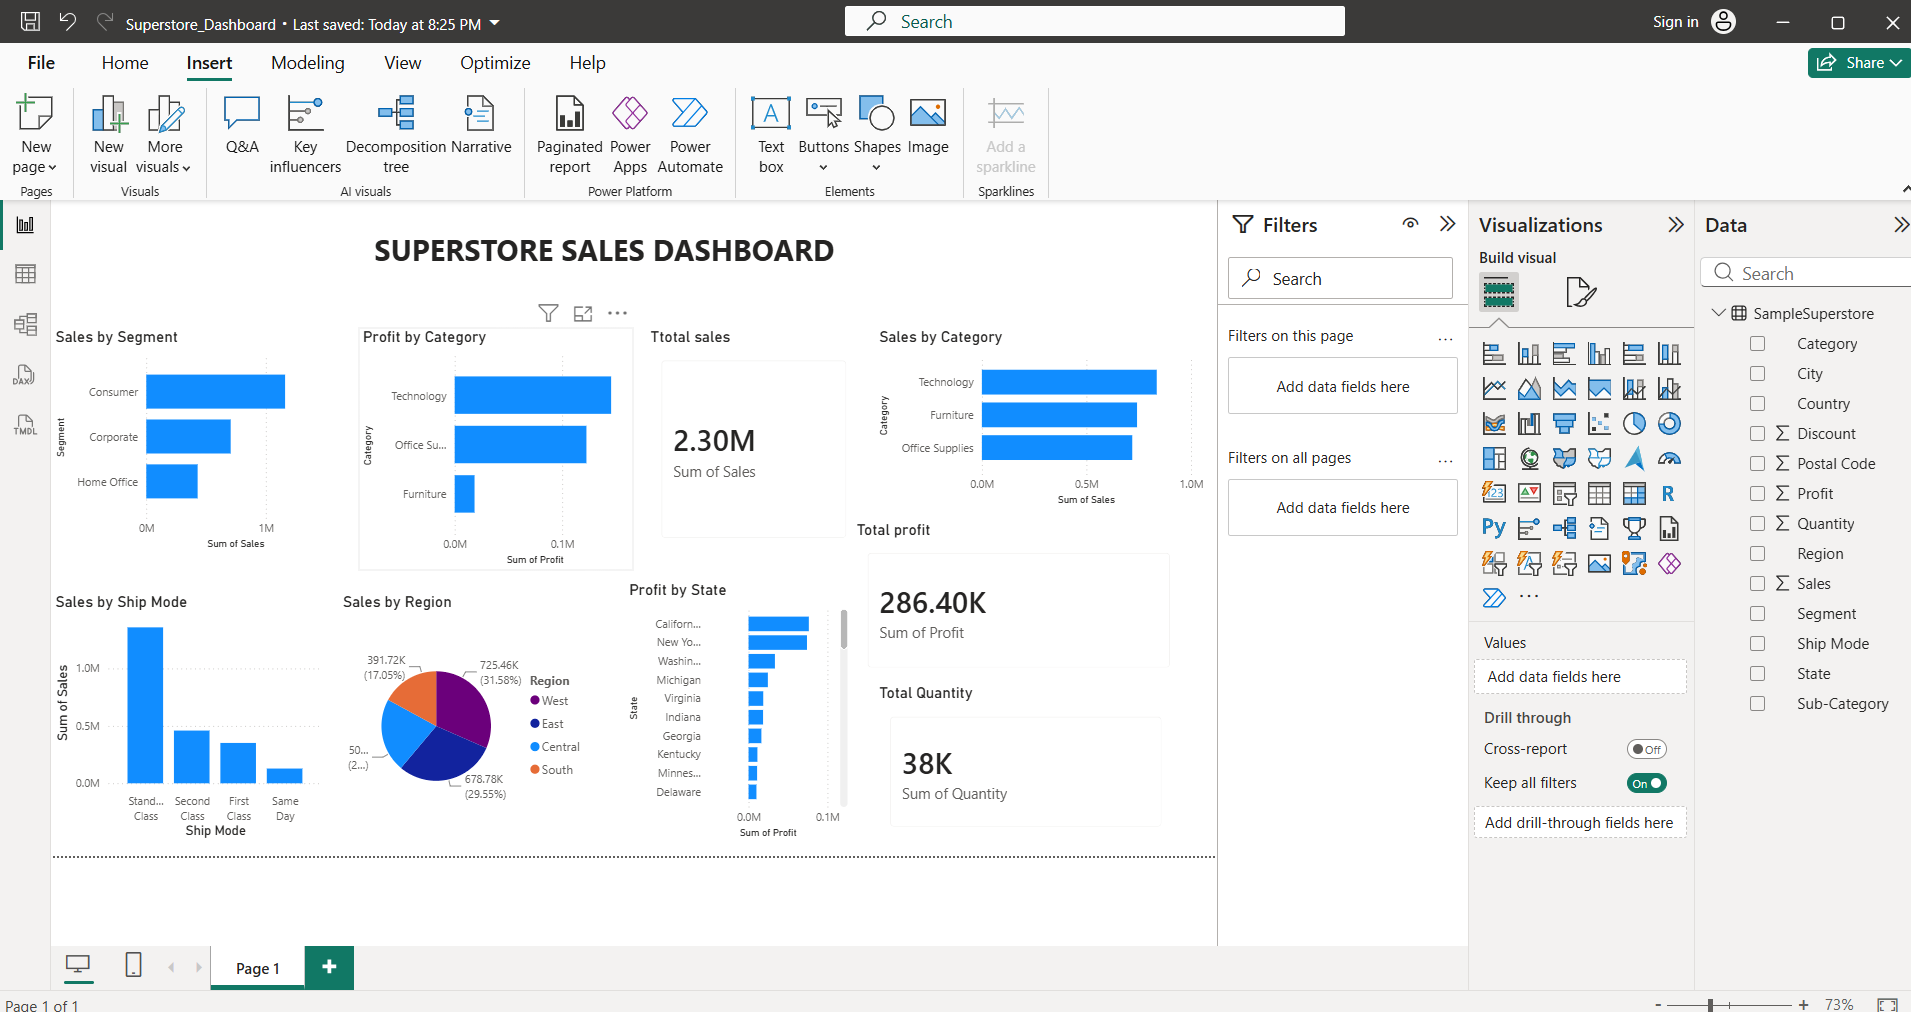

The page's visual inventory and layout, read from the dashboard file:
{"tool":"powerbi","page":{"name":"Page 1","canvas":[1280,720],"ordinal":0},"visuals":[{"type":"clusteredBarChart","title":" Sales by Category","fields":{"Category":["SampleSuperstore.Category"],"Y":["Sum(SampleSuperstore.Sales)"]},"box":[904.3,140,366.4,200.3],"z":0},{"type":"clusteredBarChart","title":"Profit by Category","fields":{"Category":["SampleSuperstore.Category"],"Y":["Sum(SampleSuperstore.Profit)"]},"box":[337.6,140,301.9,266.2],"z":1},{"type":"clusteredBarChart","title":" Sales by Segment","fields":{"Category":["SampleSuperstore.Segment"],"Y":["Sum(SampleSuperstore.Sales)"]},"box":[0,140,315.6,248.4],"z":2},{"type":"clusteredColumnChart","title":" Sales by Ship Mode","fields":{"Category":["SampleSuperstore.Ship Mode"],"Y":["Sum(SampleSuperstore.Sales)"]},"box":[0,430.9,303.3,274.4],"z":3},{"type":"pieChart","title":"Sales by Region","fields":{"Category":["SampleSuperstore.Region"],"Y":["Sum(SampleSuperstore.Sales)"]},"box":[315.6,430.9,279.9,274.4],"z":4},{"type":"clusteredBarChart","title":"Profit by State","fields":{"Category":["SampleSuperstore.State"],"Y":["Sum(SampleSuperstore.Profit)"]},"box":[629.8,417.2,249.7,288.2],"z":5},{"type":"cardVisual","title":"Ttotal sales","fields":{"Data":["Sum(SampleSuperstore.Sales)"]},"box":[653.2,140,237.4,248.4],"z":6},{"type":"cardVisual","title":"Total profit","fields":{"Data":["Sum(SampleSuperstore.Profit)"]},"box":[879.6,351.3,366.4,179.8],"z":7},{"type":"cardVisual","title":"Total Quantity","fields":{"Data":["Sum(SampleSuperstore.Quantity)"]},"box":[904.3,531,332.1,174.3],"z":8},{"type":"textbox","box":[328,27.4,551.6,57.6],"z":9}]}

Visuals, with their boxes on the page's 1280x720 design canvas (x1, y1, x2, y2). These are canvas units, not pixel positions in the 1911x1012 screenshot, which may show the page scaled, cropped or inside an application window:
" Sales by Category" clusteredBarChart: (x1=904, y1=140, x2=1271, y2=340)
"Profit by Category" clusteredBarChart: (x1=338, y1=140, x2=640, y2=406)
" Sales by Segment" clusteredBarChart: (x1=0, y1=140, x2=316, y2=388)
" Sales by Ship Mode" clusteredColumnChart: (x1=0, y1=431, x2=303, y2=705)
"Sales by Region" pieChart: (x1=316, y1=431, x2=596, y2=705)
"Profit by State" clusteredBarChart: (x1=630, y1=417, x2=880, y2=705)
"Ttotal sales" cardVisual: (x1=653, y1=140, x2=891, y2=388)
"Total profit" cardVisual: (x1=880, y1=351, x2=1246, y2=531)
"Total Quantity" cardVisual: (x1=904, y1=531, x2=1236, y2=705)
textbox: (x1=328, y1=27, x2=880, y2=85)
